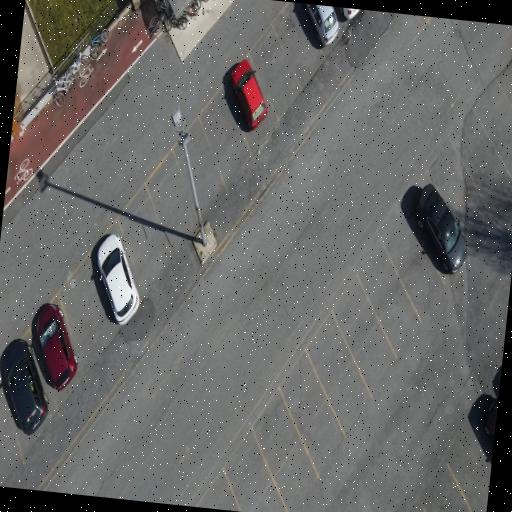car: (0, 339, 47, 434), (416, 184, 466, 272), (33, 304, 77, 390), (97, 234, 139, 324), (231, 59, 266, 130), (302, 3, 338, 45), (484, 398, 497, 439), (339, 7, 358, 19)
